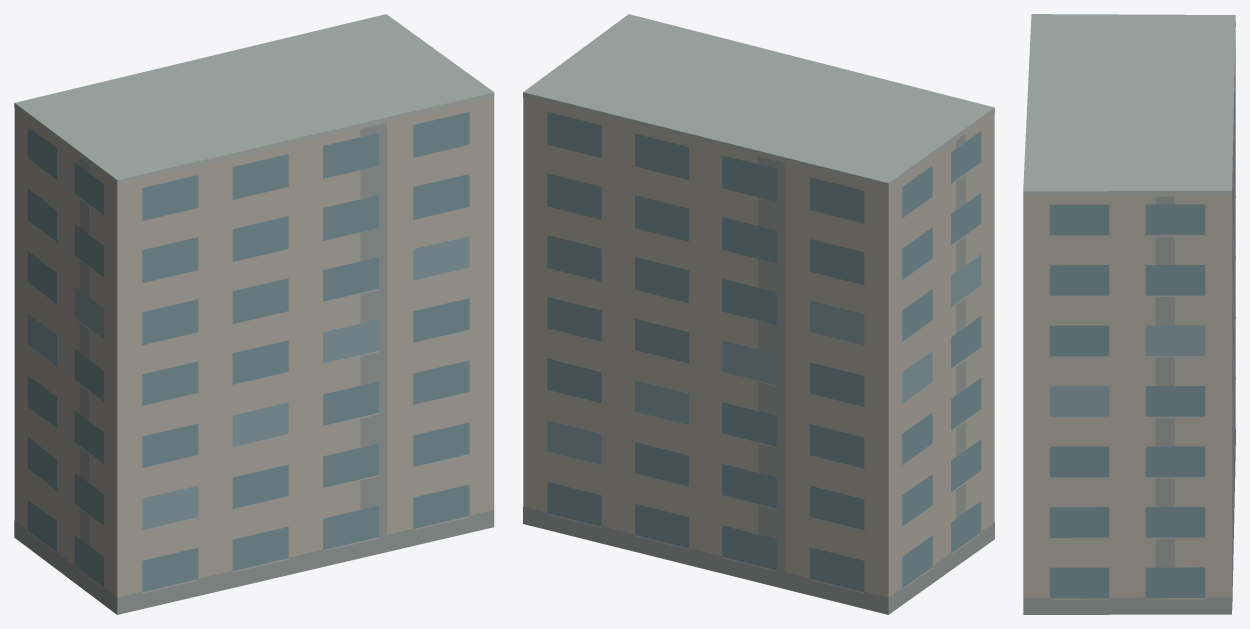
The model's file is survey-upis-32564547.glb.
3 views of the same model, side by side, from view 1: azimuth 30°, elevation 25°; view 2: azimuth 150°, elevation 25°; view 3: azimuth 270°, elevation 25° (orthographic). The views are drawn at different scales.
Visible parts, largest first — view 1: survey-upis-32564547.tmp; view 2: survey-upis-32564547.tmp; view 3: survey-upis-32564547.tmp.
Part boxes in pixels (x1,y1,x2,y2): survey-upis-32564547.tmp: [14, 14, 494, 614]; survey-upis-32564547.tmp: [523, 14, 994, 614]; survey-upis-32564547.tmp: [1023, 14, 1235, 614].
Size of the model in its own units: 16.93 by 18.85 by 8.59.
